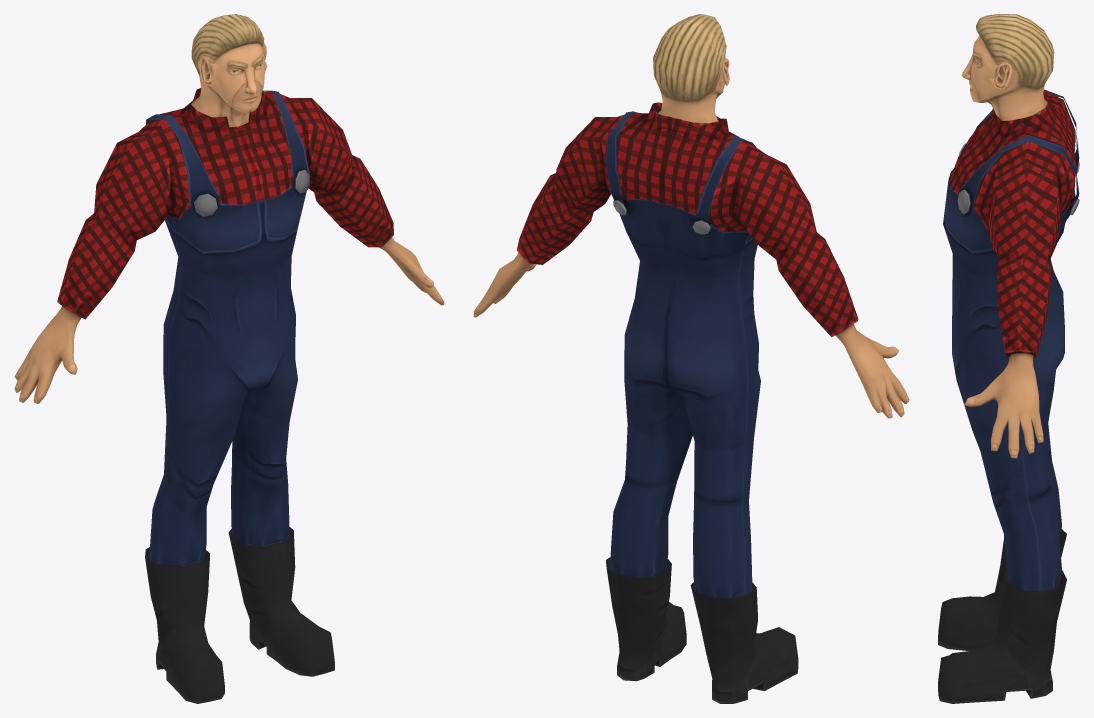
File: granjero.glb
The picture shows the model from 3 angles, left to right: view 1: azimuth 30°, elevation 25°; view 2: azimuth 150°, elevation 25°; view 3: azimuth 270°, elevation 25°; orthographic projection.
Parts seen in each view (by area): view 1: RetopoFlow.002; view 2: RetopoFlow.002; view 3: RetopoFlow.002.
Boxes of the visible parts, x1,y1,x2,y2 form: RetopoFlow.002: (14,14,444,703); RetopoFlow.002: (473,14,909,703); RetopoFlow.002: (938,14,1079,703).
Size of the model in its own units: 1.36 by 2 by 0.3949.
1 material, 1 textured.
